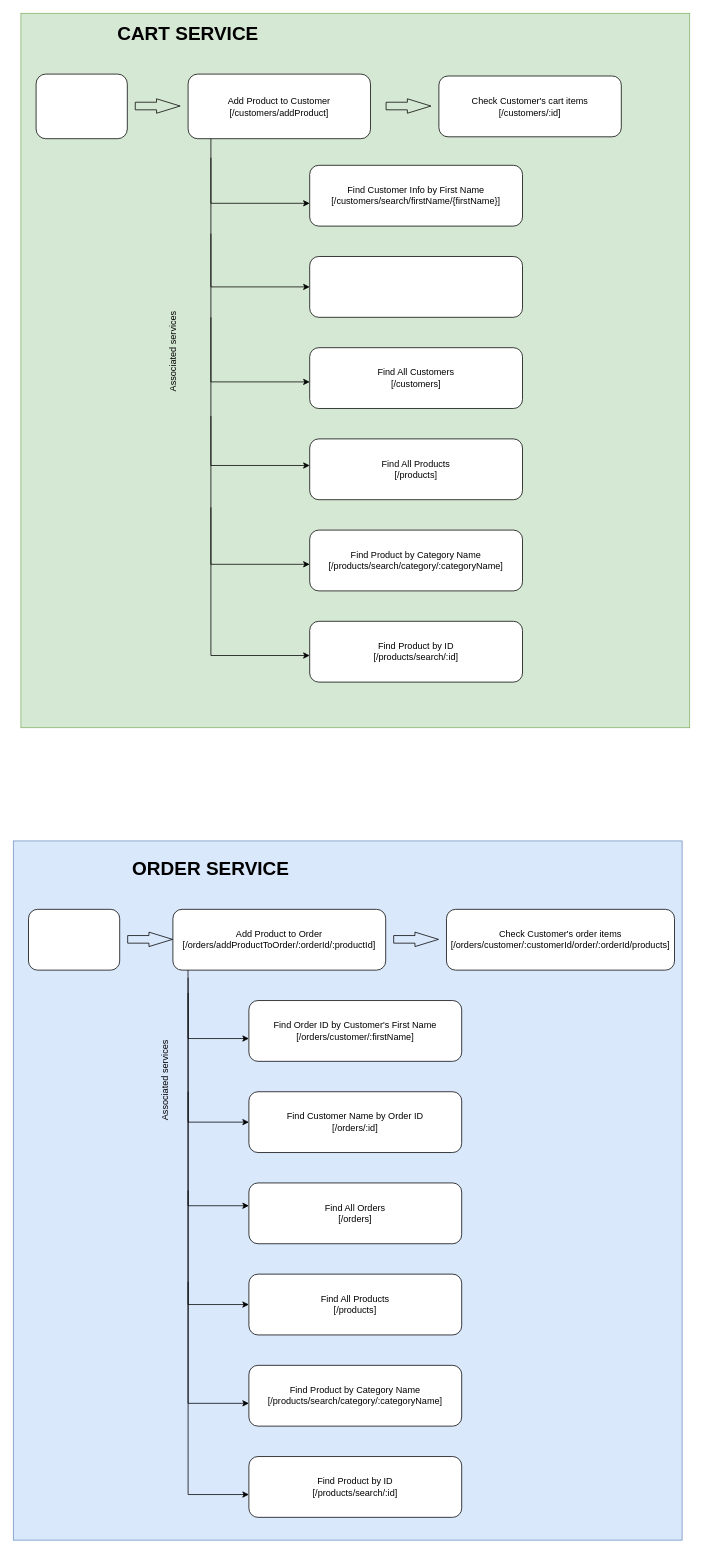
This 703x1553 diagram has some shape labels left out. Each missing label, with the box of its shape:
Create Customer [/customers/create]: (35, 73, 127, 139)
Create Order ID [/orders/create]: (28, 909, 120, 970)
Find Customer By ID [/customers/search/:id]: (309, 256, 522, 317)
